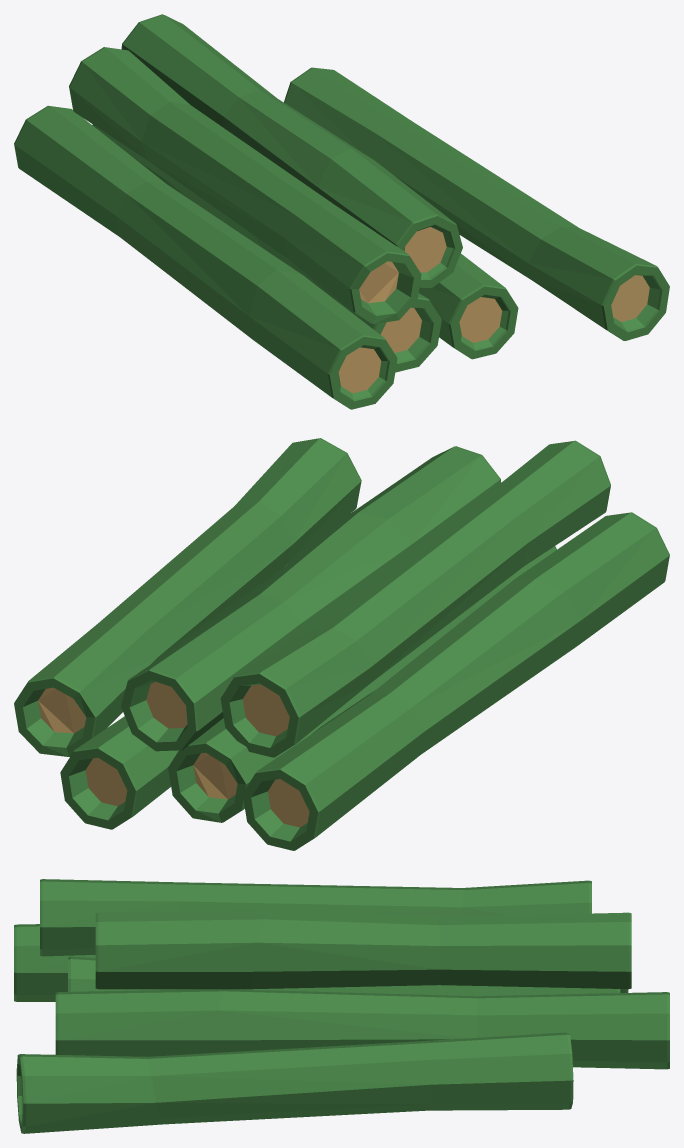
Rendered from logs_a_1272.gltf.
The picture shows the model from 3 angles, top to bottom: view 1: azimuth 30°, elevation 25°; view 2: azimuth 150°, elevation 25°; view 3: azimuth 270°, elevation 25°; orthographic projection. The views are drawn at different scales.
Visible parts, largest first — view 1: logs_a003; view 2: logs_a003; view 3: logs_a003.
Part boxes in pixels (bbox=[...]): logs_a003: bbox=[14, 14, 669, 409]; logs_a003: bbox=[14, 438, 669, 850]; logs_a003: bbox=[14, 879, 669, 1133].
Size of the model in its own units: 1.48 by 0.5588 by 2.49.
1 material, 1 textured.
